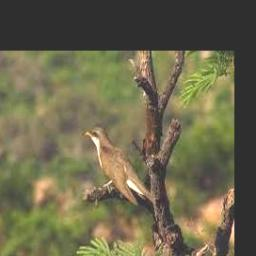Cuckoo: (85, 125, 155, 206)
